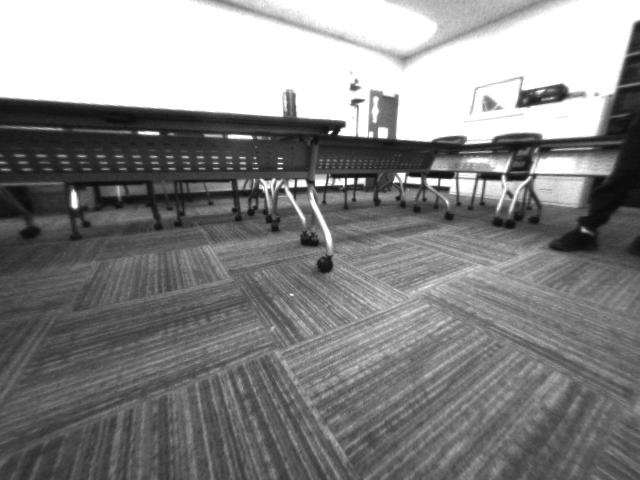can: (278, 87, 300, 116)
